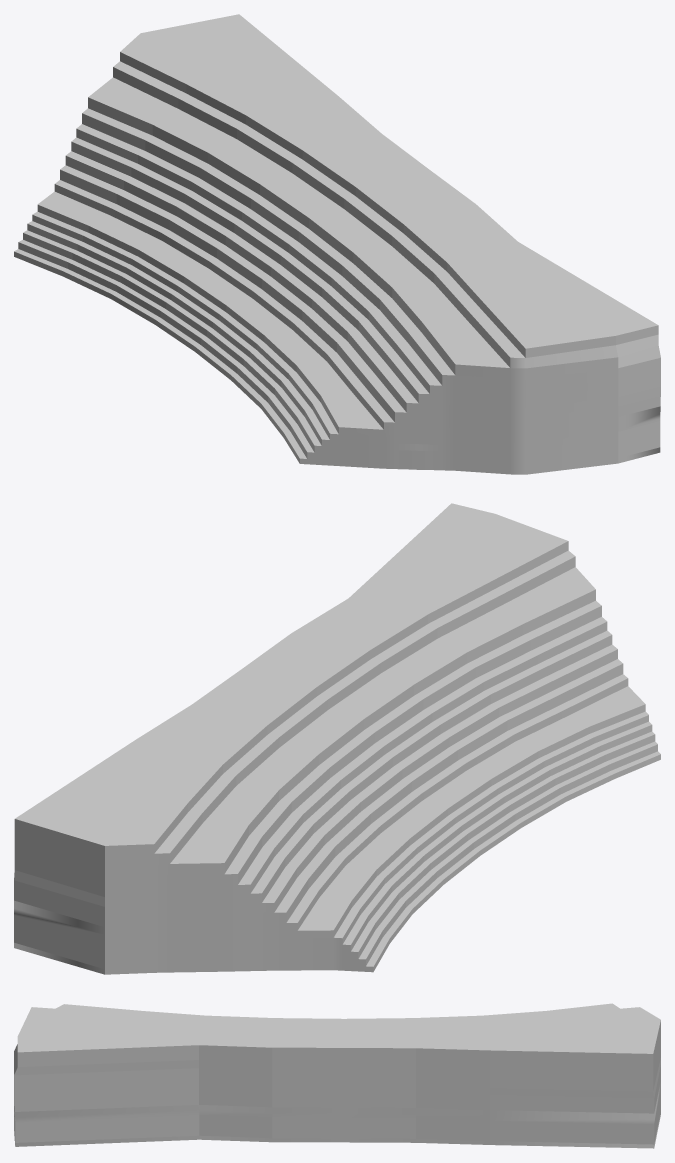
3 views of the same model, one above another, from view 1: azimuth 30°, elevation 25°; view 2: azimuth 150°, elevation 25°; view 3: azimuth 270°, elevation 25° (orthographic). The views are drawn at different scales.
Parts seen in each view (by area): view 1: block_05; view 2: block_05; view 3: block_05.
Boxes of the visible parts, x1=… form: block_05: x1=14, y1=14, x2=660, y2=474; block_05: x1=14, y1=503, x2=660, y2=974; block_05: x1=14, y1=1003, x2=660, y2=1148.
Size of the model in its own units: 2.64 by 1.1 by 6.84.
Materials: 1 (1 with a texture image).
